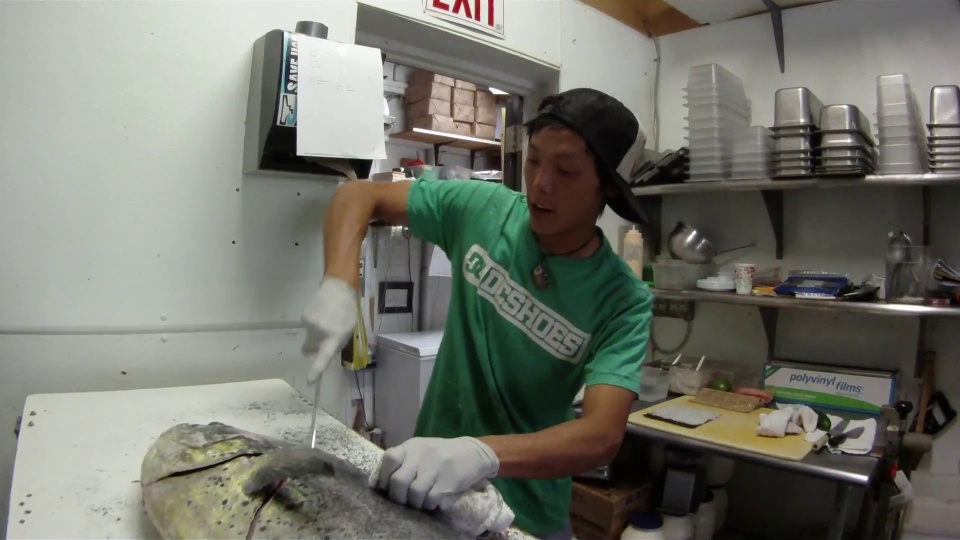person: (327, 93, 663, 535)
